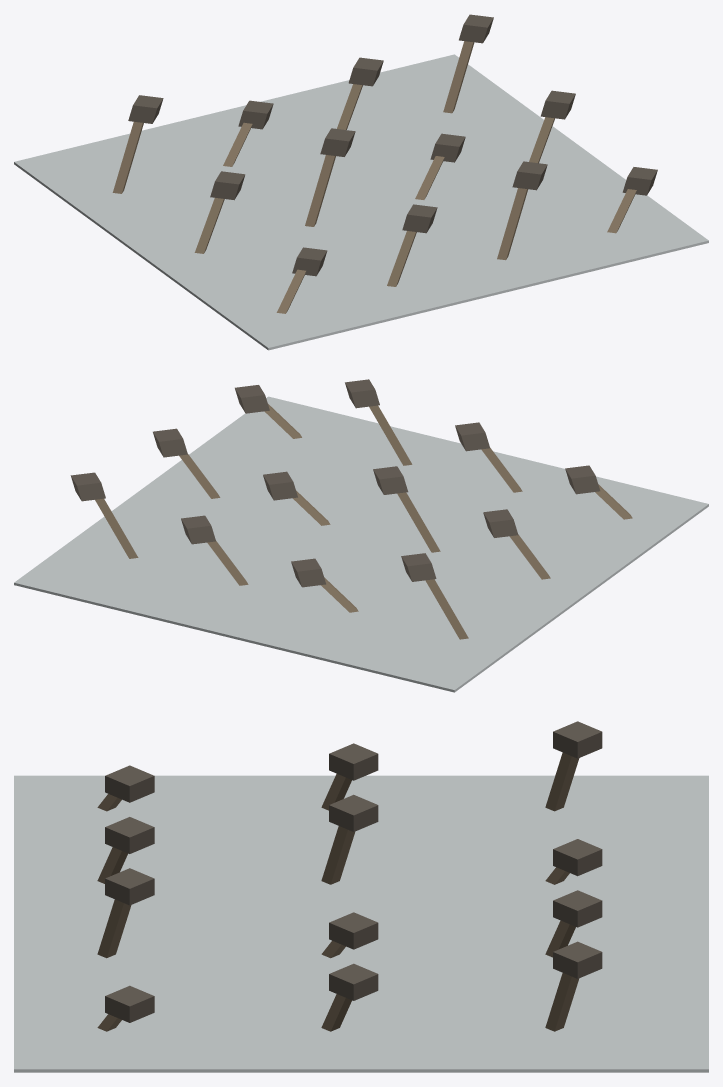
File: frozen_reeds.glb
3 renders of one model, top to bottom at view 1: azimuth 30°, elevation 25°; view 2: azimuth 150°, elevation 25°; view 3: azimuth 270°, elevation 25°, orthographic. The views are drawn at different scales.
Parts seen in each view (by area): view 1: frozen_reeds; view 2: frozen_reeds; view 3: frozen_reeds.
Part boxes in pixels (x1,y1,x2,y2): frozen_reeds: [14, 14, 708, 350]; frozen_reeds: [14, 379, 708, 692]; frozen_reeds: [14, 721, 708, 1072].
Bounding box in the file's own units: 2.88 × 0.48 × 2.88.
